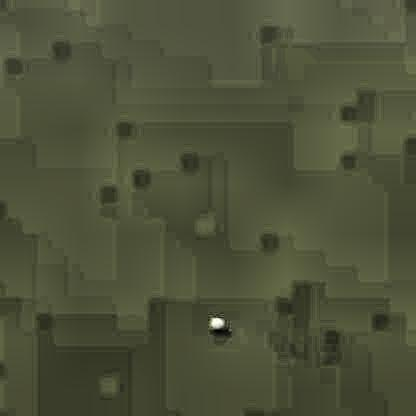golfball: (208, 315, 222, 329)
